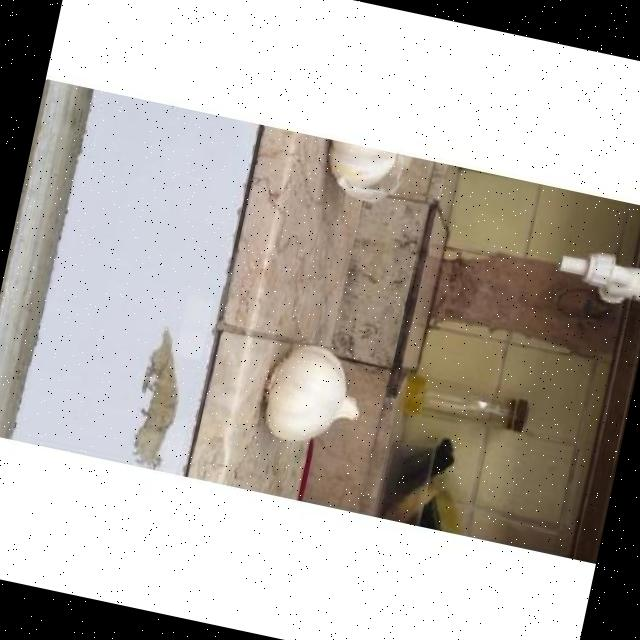garlic: (264, 344, 357, 440), (327, 140, 404, 202)
